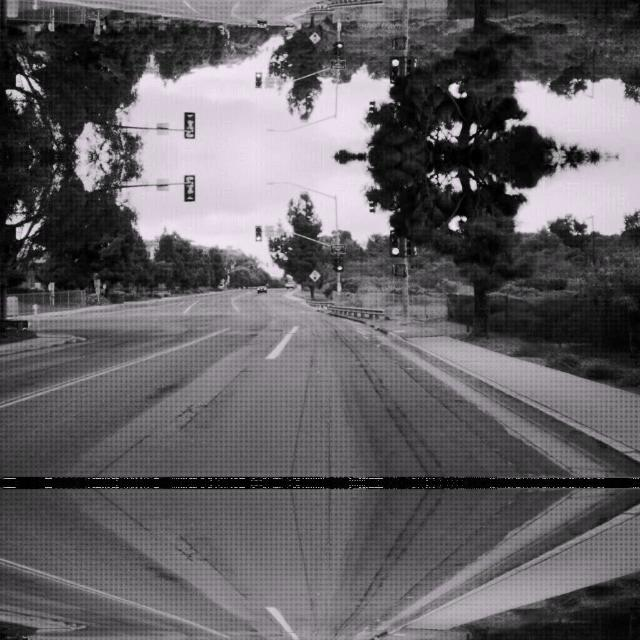signalAhead: (308, 268, 320, 280), (308, 32, 320, 44)
